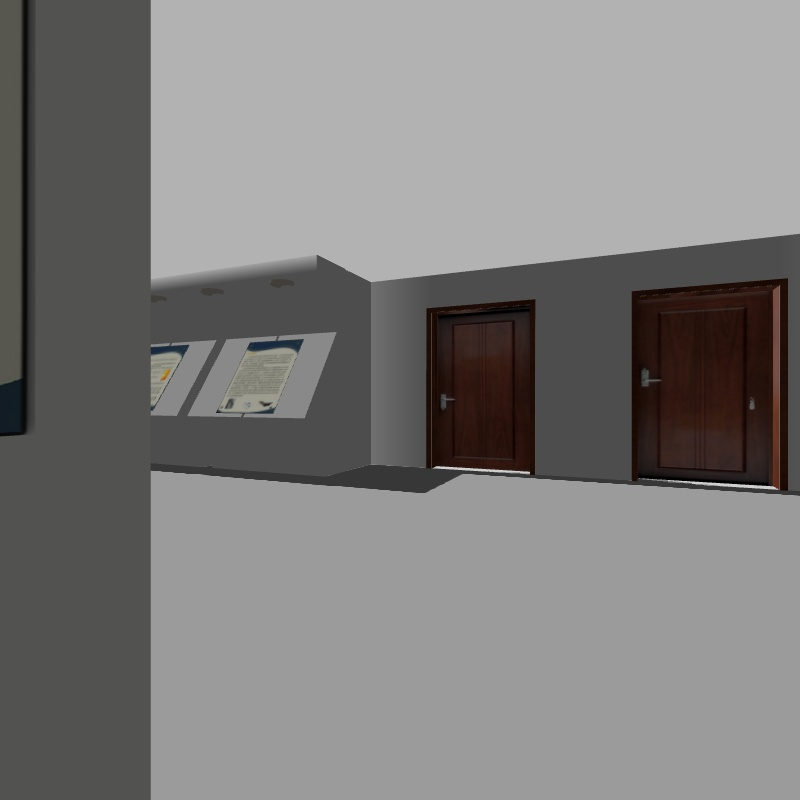handle: (633, 364, 662, 393), (428, 388, 452, 410)
